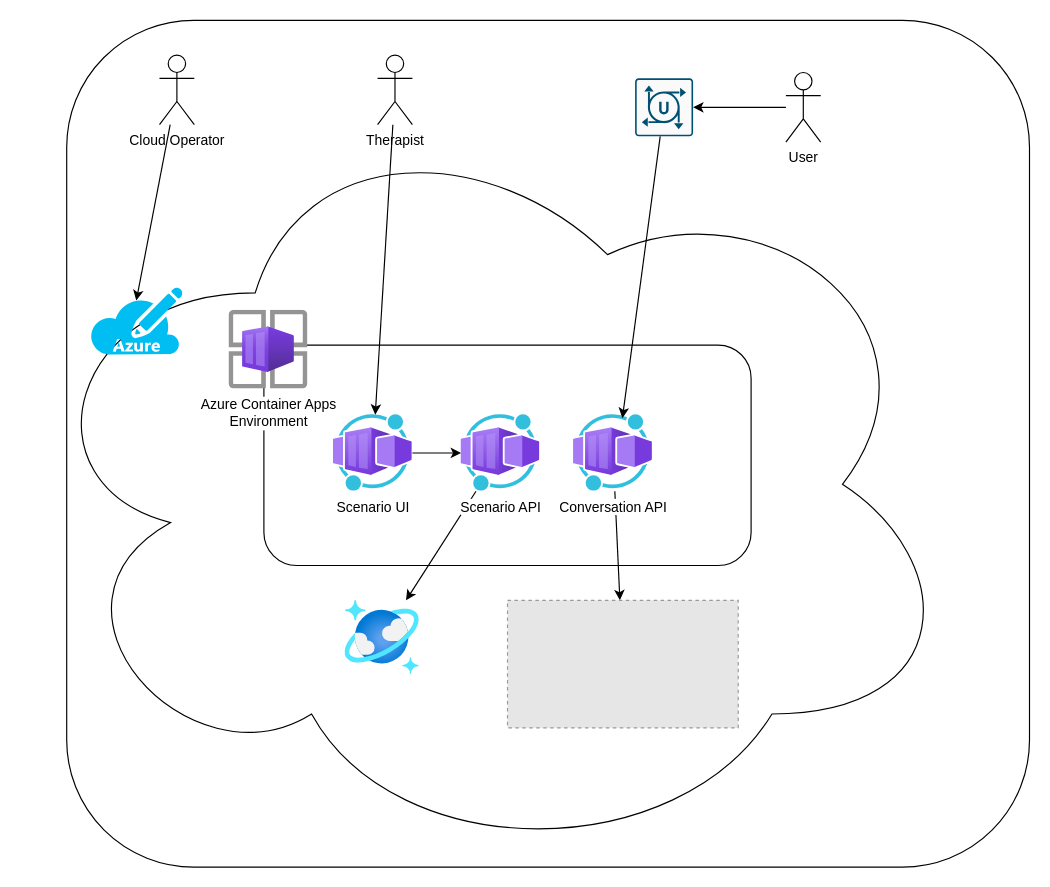
The diagram is 1050 pixels wide and 887 high, and some of its shapes have lost their labels. Grey dashed boxes stand in for pictures. The shapes that lost their labels are listed below. From the top down, each one's centre as x and y in pixels, then its label:
At point 663,106: "Unreal Engine".
At point 135,320: "Azure Subscription".
At point 382,637: "Azure CosmosDB (MongoDB API)".
